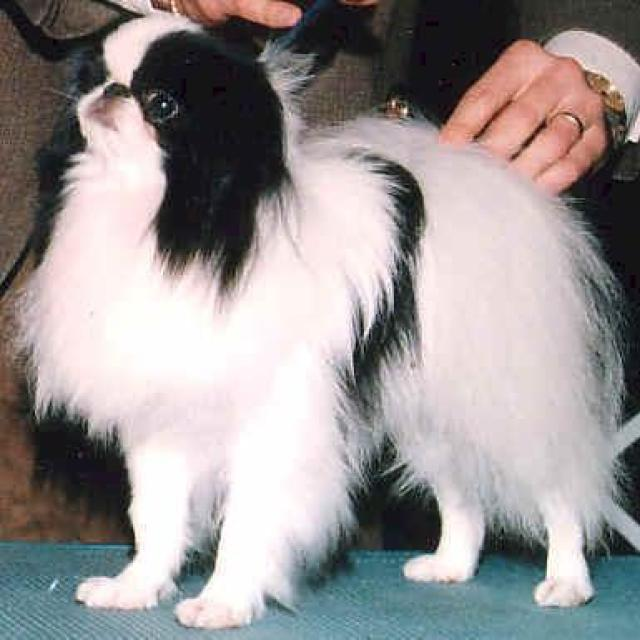husky: (10, 16, 623, 628)
